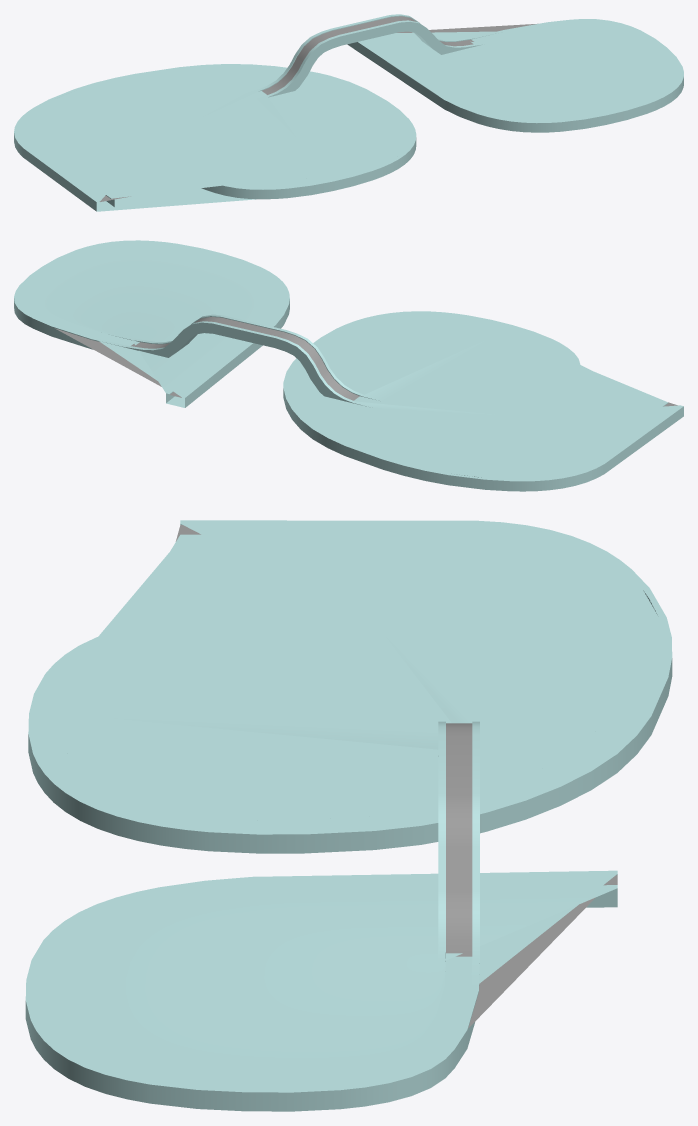
Rendered from petblya.fbx.
The picture shows the model from 3 angles, top to bottom: view 1: azimuth 30°, elevation 25°; view 2: azimuth 150°, elevation 25°; view 3: azimuth 270°, elevation 25°; orthographic projection. The views are drawn at different scales.
Parts seen in each view (by area): view 1: prtblya; view 2: prtblya; view 3: prtblya.
Part boxes in pixels (x1,y1,x2,y2): prtblya: (14, 14, 683, 211); prtblya: (14, 240, 683, 491); prtblya: (25, 520, 672, 1111).
Size of the model in its own units: 6624 by 572 by 3162.
